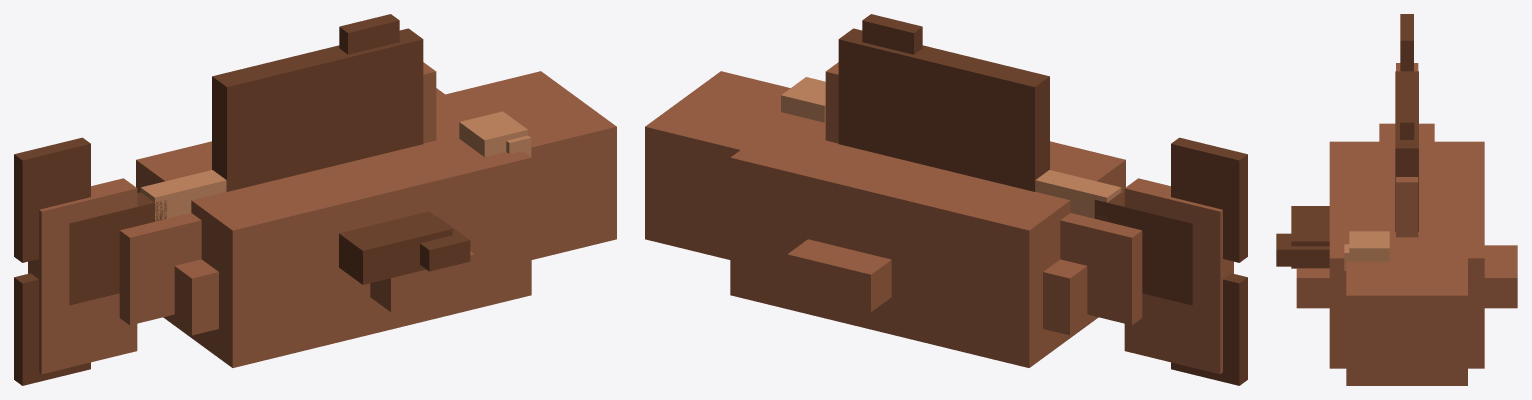
File: fish_slag_loach.glb
3 views of the same model, side by side, from view 1: azimuth 30°, elevation 25°; view 2: azimuth 150°, elevation 25°; view 3: azimuth 270°, elevation 25° (orthographic). The views are drawn at different scales.
Parts seen in each view (by area): view 1: FishArt_body, FishArt_dorsal, FishArt_tail, FishArt_pectoral, FishArt_eye, FishArt_specialty; view 2: FishArt_body, FishArt_dorsal, FishArt_tail, FishArt_specialty, FishArt_eye; view 3: FishArt_body, FishArt_pectoral, FishArt_dorsal, FishArt_eye, FishArt_tail.
Boxes of the visible parts, x1=… form: FishArt_body: x1=28, y1=62, x2=616, y2=374; FishArt_dorsal: x1=212, y1=14, x2=423, y2=191; FishArt_tail: x1=14, y1=137, x2=166, y2=385; FishArt_pectoral: x1=339, y1=211, x2=470, y2=284; FishArt_eye: x1=459, y1=111, x2=531, y2=156; FishArt_specialty: x1=140, y1=170, x2=226, y2=221; FishArt_body: x1=645, y1=62, x2=1233, y2=374; FishArt_dorsal: x1=838, y1=14, x2=1049, y2=191; FishArt_tail: x1=1094, y1=137, x2=1247, y2=385; FishArt_specialty: x1=1035, y1=170, x2=1121, y2=220; FishArt_eye: x1=781, y1=77, x2=825, y2=122; FishArt_body: x1=1296, y1=63, x2=1517, y2=385; FishArt_pectoral: x1=1276, y1=206, x2=1329, y2=268; FishArt_dorsal: x1=1395, y1=71, x2=1418, y2=231; FishArt_eye: x1=1344, y1=231, x2=1389, y2=270; FishArt_tail: x1=1400, y1=14, x2=1413, y2=71.
Size of the model in its own units: 0.3091 by 0.1442 by 0.1439.
